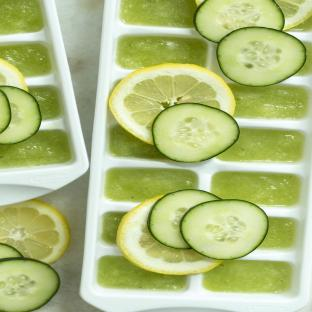Cucumber: (217, 27, 306, 86), (181, 200, 268, 259), (152, 103, 239, 162), (148, 190, 220, 249), (194, 0, 284, 42), (0, 258, 59, 311), (0, 86, 41, 144), (0, 90, 11, 133), (0, 243, 22, 258)
